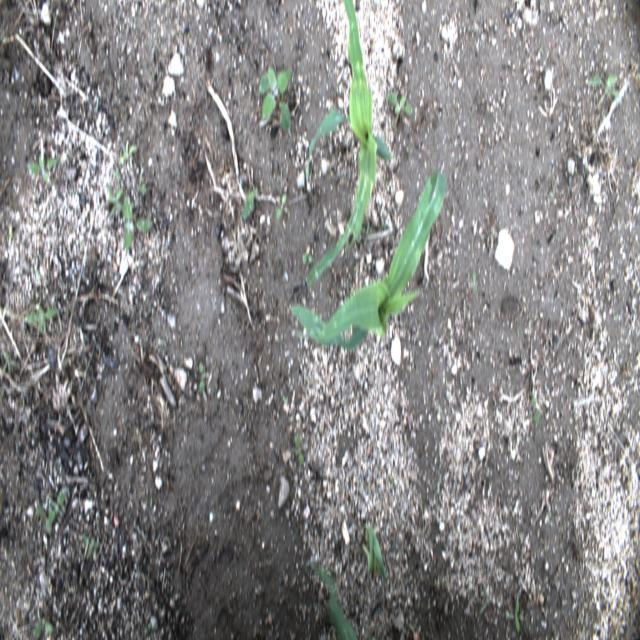crop: (290, 168, 446, 348), (305, 0, 392, 292), (311, 562, 360, 640), (361, 522, 387, 580)
weed: (255, 64, 292, 132), (122, 195, 153, 252), (586, 73, 622, 106), (26, 154, 58, 184), (26, 305, 58, 334), (35, 504, 57, 538), (386, 90, 414, 116), (105, 184, 126, 218), (47, 491, 67, 525), (506, 598, 524, 634), (241, 187, 259, 222), (80, 532, 102, 560), (292, 432, 306, 468), (32, 616, 54, 638), (528, 392, 542, 426), (274, 191, 288, 223), (117, 145, 138, 165), (3, 351, 19, 376), (198, 361, 206, 395), (360, 220, 375, 237), (138, 168, 147, 196), (470, 270, 478, 297), (302, 251, 312, 268), (8, 222, 14, 250), (143, 620, 152, 634), (34, 268, 42, 281), (282, 394, 288, 406), (612, 312, 618, 322), (380, 222, 387, 230)
